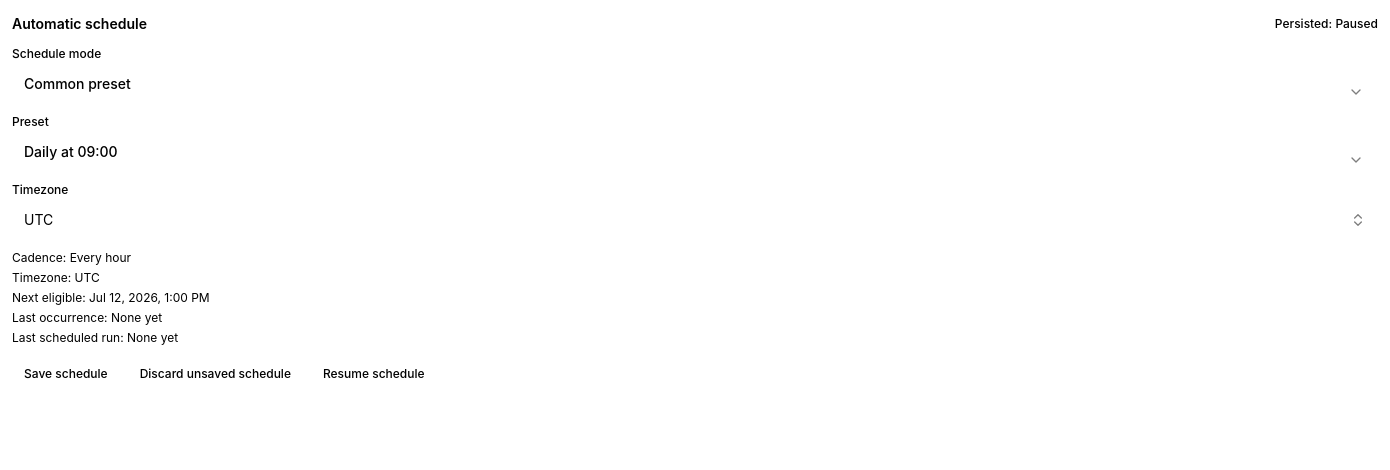
ConnectorScheduleControls async FormFailureAlert ownership › renders one focused FormFailureAlert after rejected resume and keeps canonical controls
Step 1. Click the button "Resume schedule" → point(374, 374), box top-left (311, 358), bottom-right (436, 390)
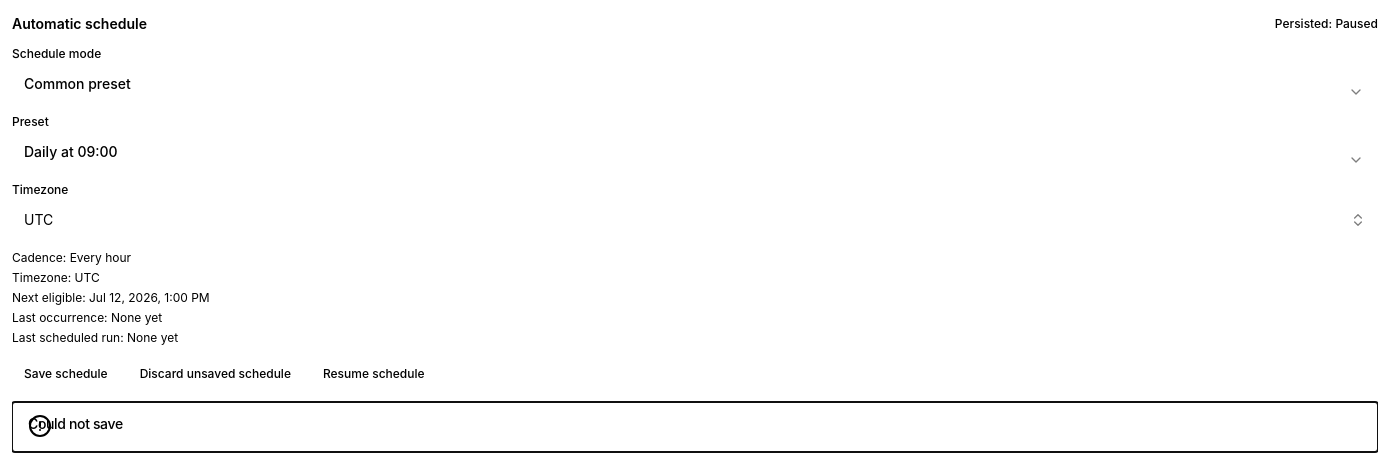
Expected: the message does not show "CANARY_SCHEDULE_RESUME /secret/resume", top-left (28, 414), bottom-right (123, 438)
Expected: the number of messages is 1, top-left (28, 414), bottom-right (123, 438)
